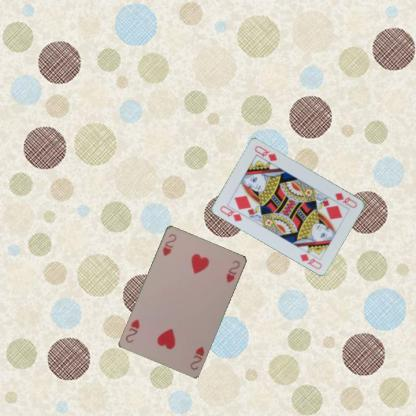2h: (188, 344, 206, 371), (160, 231, 177, 257)
Qd: (218, 202, 247, 223), (333, 190, 359, 209)
